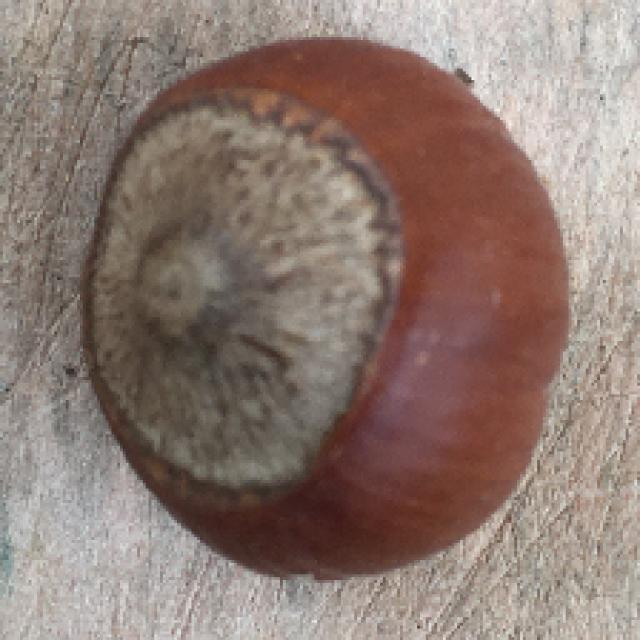qualityHazelnut: (74, 34, 574, 578)
